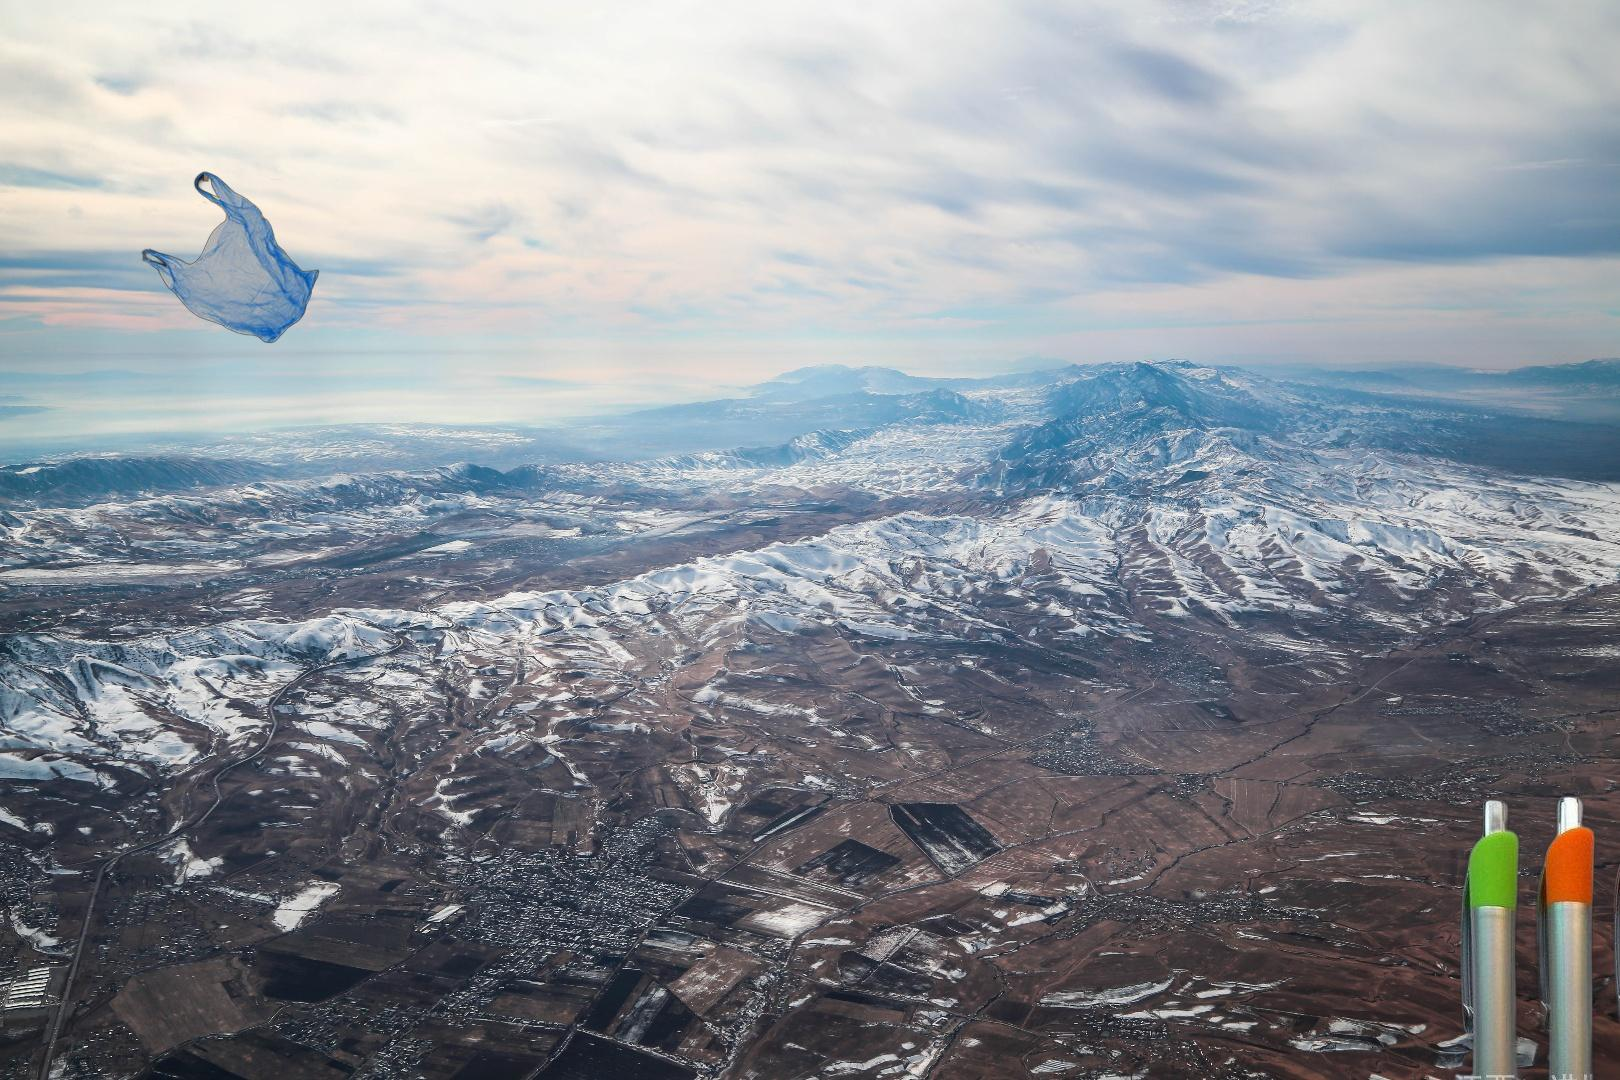penholder: (1449, 791, 1620, 1080)
plastic-bag: (136, 169, 319, 346)
